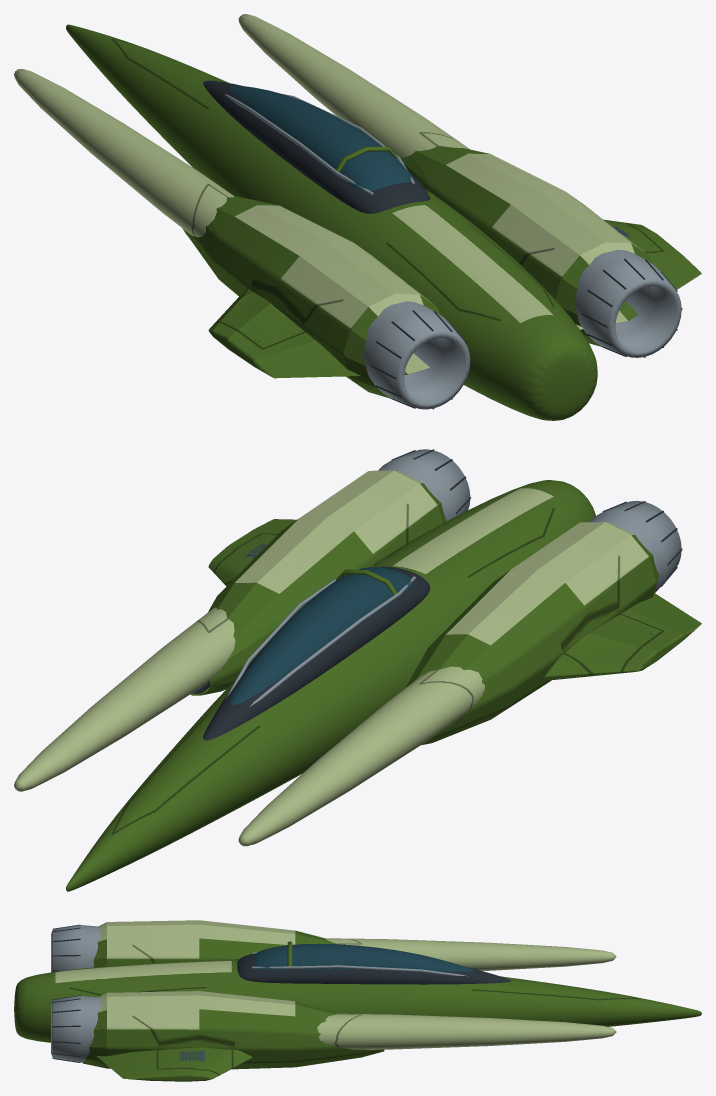
Rendered from runtime.glb.
3 renders of one model, top to bottom at view 1: azimuth 30°, elevation 25°; view 2: azimuth 150°, elevation 25°; view 3: azimuth 270°, elevation 25°, orthographic. The views are drawn at different scales.
Parts seen in each view (by area): view 1: RubySpikeV2; view 2: RubySpikeV2; view 3: RubySpikeV2.
Part boxes in pixels (x1=…): RubySpikeV2: x1=14, y1=14, x2=701, y2=420; RubySpikeV2: x1=14, y1=449, x2=701, y2=891; RubySpikeV2: x1=14, y1=920, x2=701, y2=1081.
Size of the model in its own units: 1.96 by 0.6313 by 3.94.
6 materials, 2 textured.
